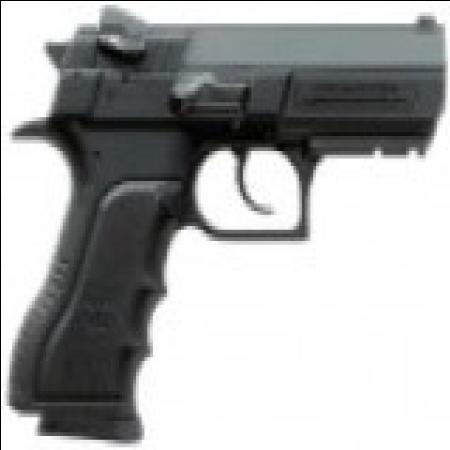Pistol: (11, 8, 441, 438)
